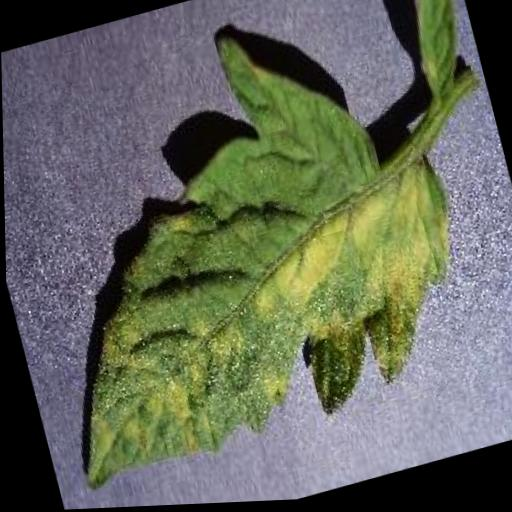Leaf Mold: (0, 0, 494, 494)
